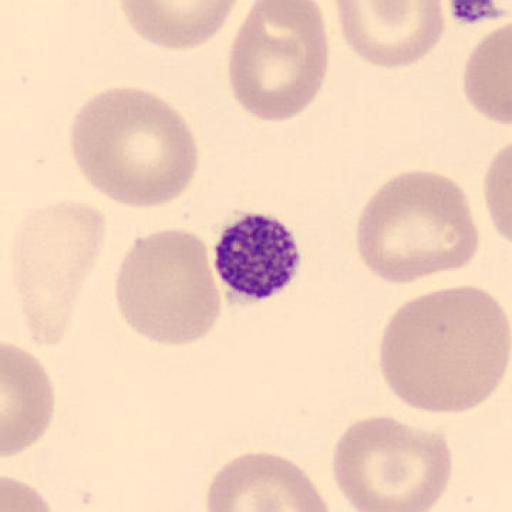Platelet: (210, 209, 306, 306)
RBC: (378, 283, 511, 417), (67, 86, 200, 210), (354, 168, 481, 285), (8, 199, 107, 348), (113, 225, 221, 348), (227, 1, 331, 123), (331, 413, 454, 512), (331, 413, 417, 512), (205, 450, 333, 512), (333, 0, 446, 69), (2, 340, 56, 458), (117, 0, 240, 51), (462, 20, 512, 127), (482, 140, 512, 248), (2, 475, 56, 512)
